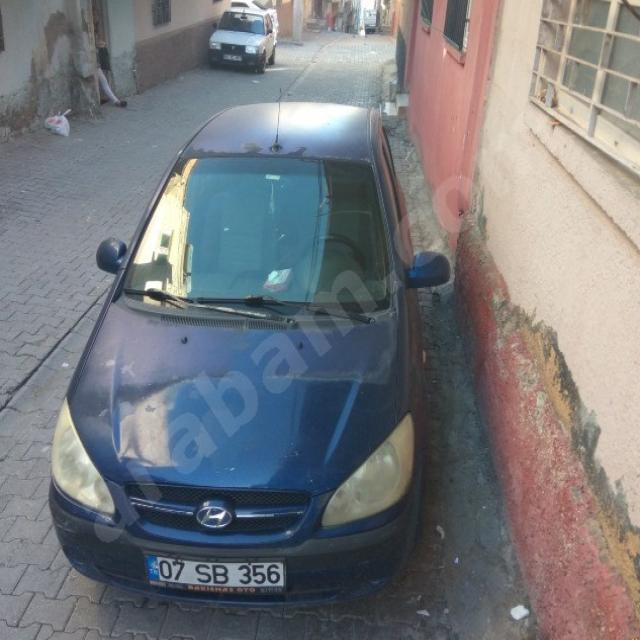license_plate: (143, 554, 285, 586)
